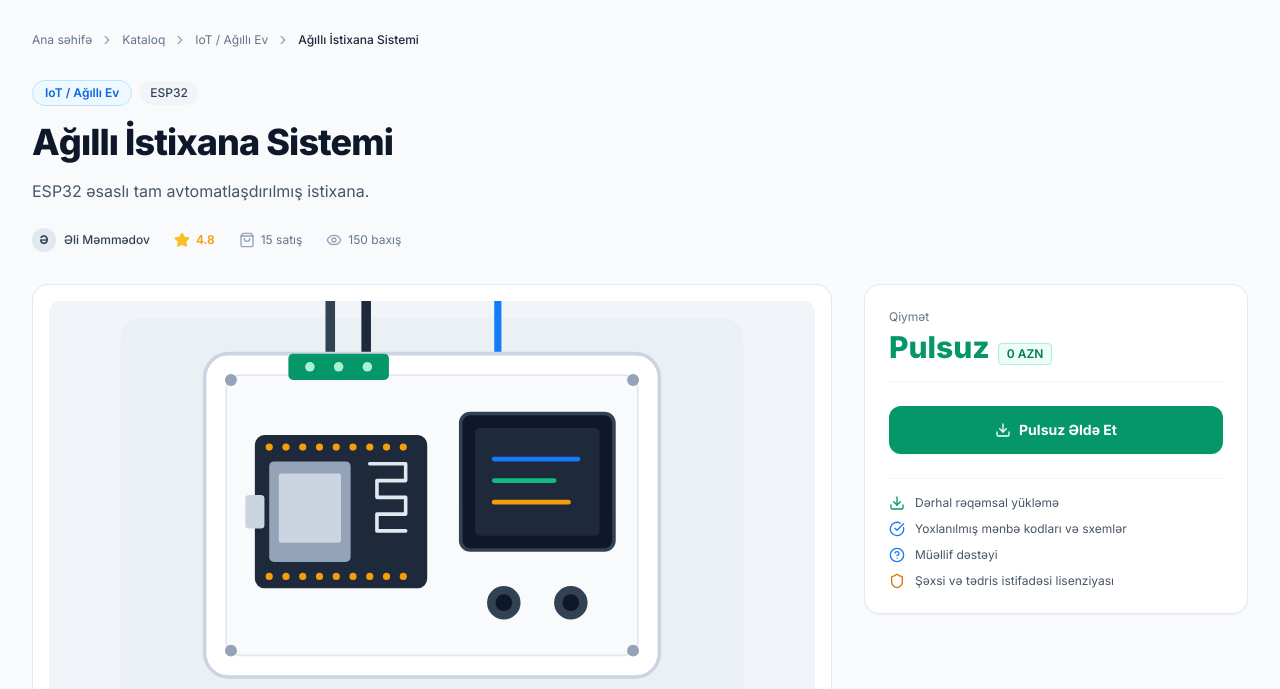
Scenario: ProjectDetailsPage Component › displays login required prompt when unauthenticated user attempts to claim free project
Click the button "Pulsuz Əldə Et" at (1056, 430), box [889,406,1223,454]
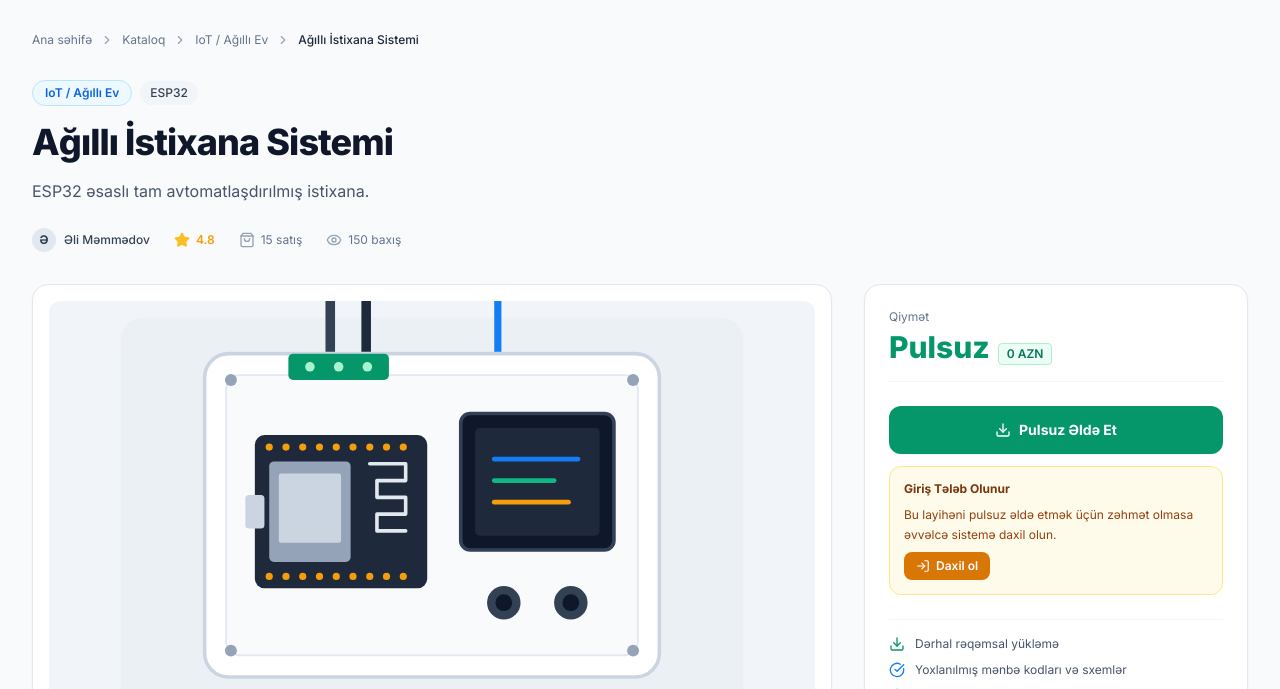
Expected: the text "Giriş Tələb Olunur" is shown, [904,481,1010,496]
Expected: the text "əvvəlcə sistemə daxil olun" is shown, [904,507,1193,542]
